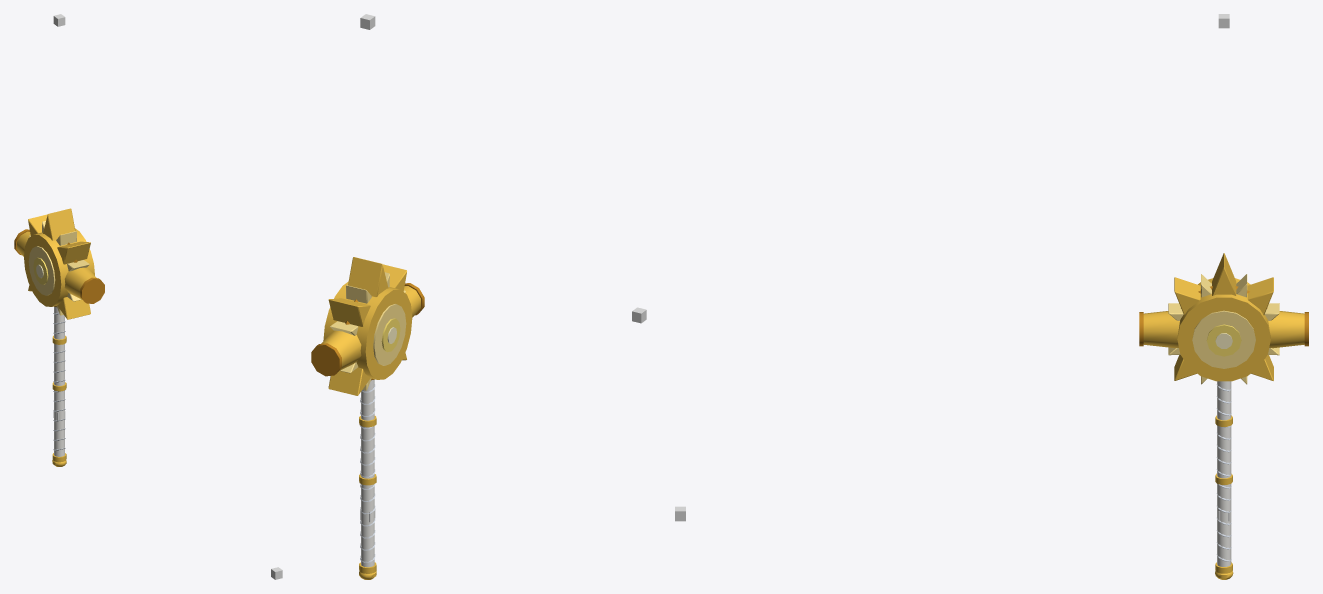
Rendered from SolHammer.fbx.
3 views of the same model, side by side, from view 1: azimuth 30°, elevation 25°; view 2: azimuth 150°, elevation 25°; view 3: azimuth 270°, elevation 25° (orthographic). The views are drawn at different scales.
Visible parts, largest first — view 1: Body; view 2: Body, Glow; view 3: Body, Glow.
Part boxes in pixels (x1=…): Body: x1=14, y1=208, x2=104, y2=466; Body: x1=311, y1=257, x2=424, y2=579; Glow: x1=381, y1=318, x2=400, y2=352; Body: x1=1139, y1=253, x2=1308, y2=579; Glow: x1=1206, y1=324, x2=1241, y2=356.
Bounding box in the file's own units: 1.06 × 11.42 × 11.66.
1 material, 1 textured.
